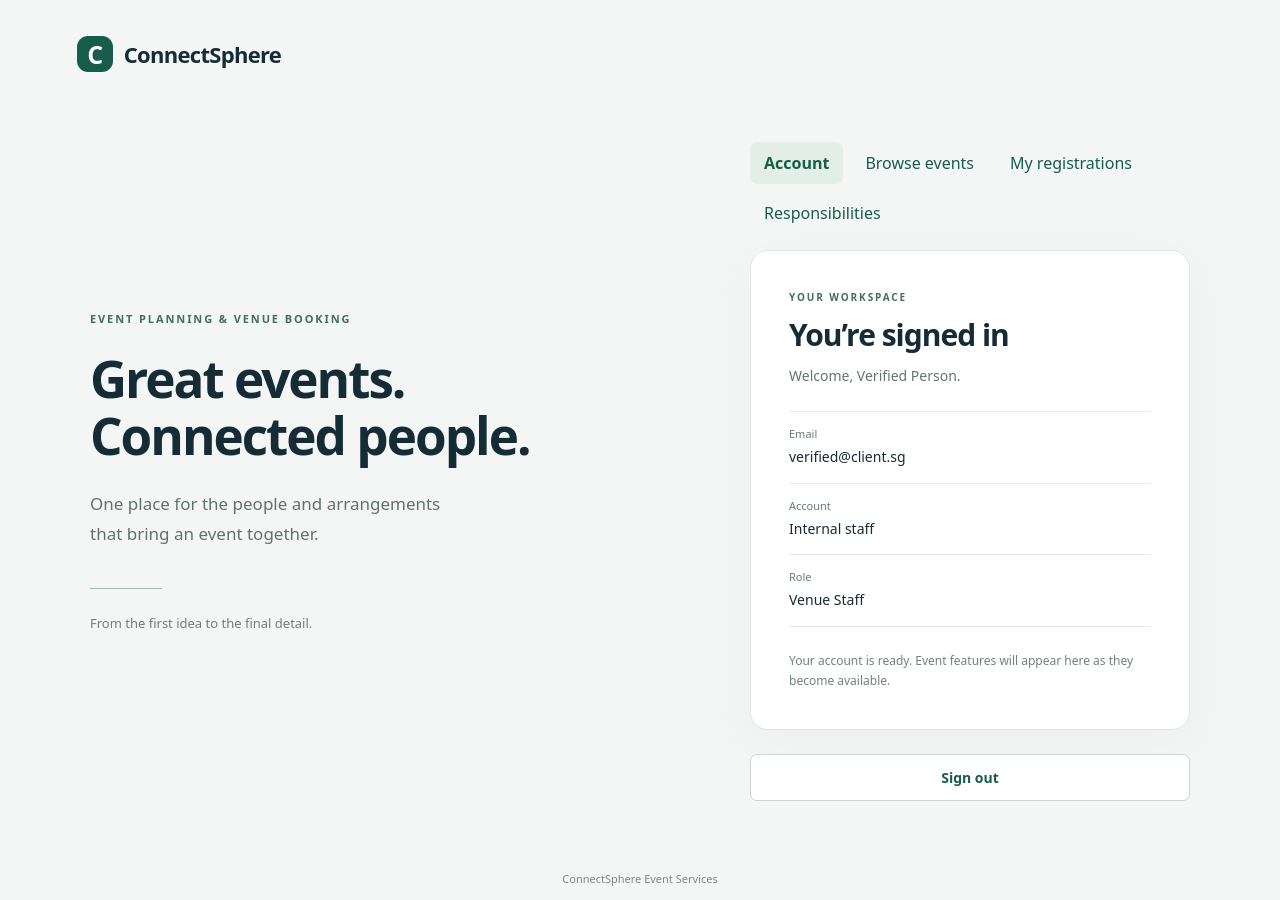
Test: [AUTH-FLOW-021] Successful token refresh uses the new token for subsequent authorised requests
Check: the text "Welcome, Verified Person." is shown, box [789,366,961,385]
What coordinates should you click on to do the following:
click the link "Responsibilities"
I would click on:
 (822, 213)
Its box is [764,202,881,224].
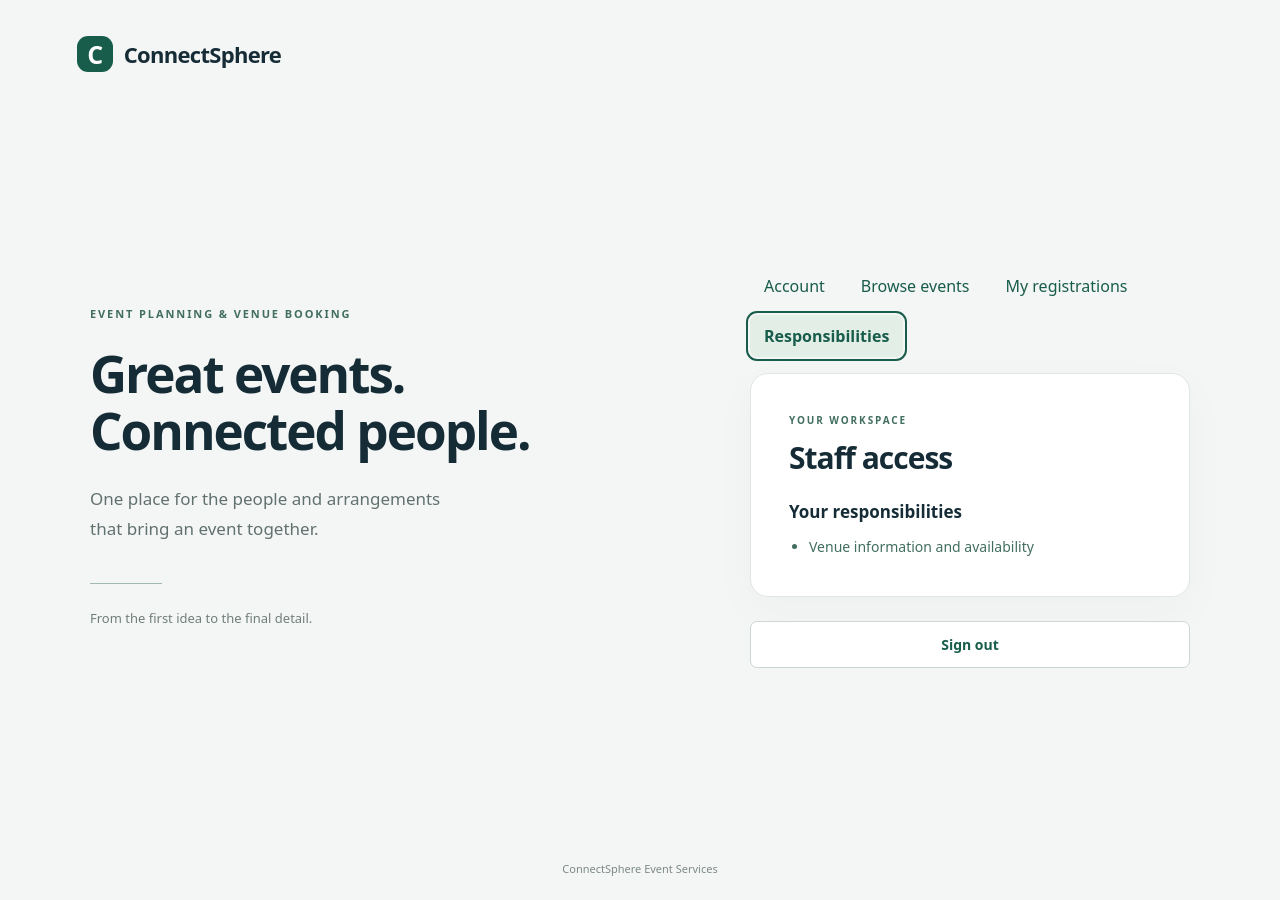
Check: the list item "Venue information and availability" is shown, box [809,537,1034,556]
